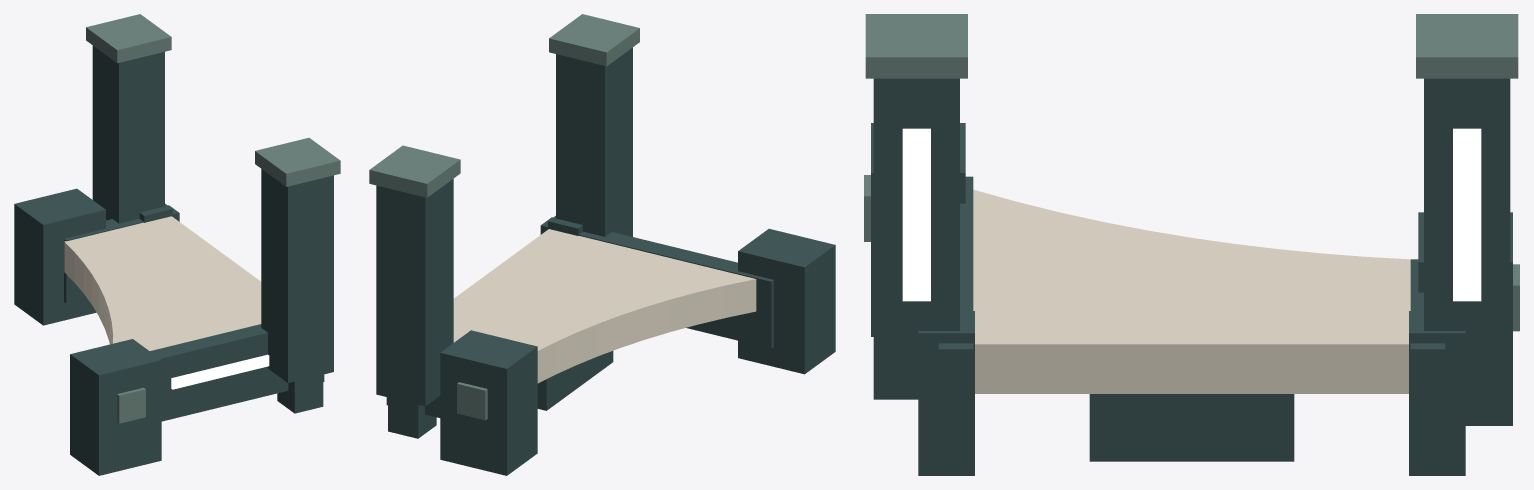
Rendered from Pier_Angled_20_Switch_lab.glb.
The picture shows the model from 3 angles, left to right: view 1: azimuth 30°, elevation 25°; view 2: azimuth 150°, elevation 25°; view 3: azimuth 270°, elevation 25°; orthographic projection. The views are drawn at different scales.
Visible parts, largest first — view 1: Pier_Angled_20_Switch; view 2: Pier_Angled_20_Switch; view 3: Pier_Angled_20_Switch.
Boxes of the visible parts, <box> form: Pier_Angled_20_Switch: <box>14,14,340,475</box>; Pier_Angled_20_Switch: <box>369,14,835,475</box>; Pier_Angled_20_Switch: <box>864,14,1519,475</box>.
Size of the model in its own units: 2.94 by 2.95 by 4.17.
